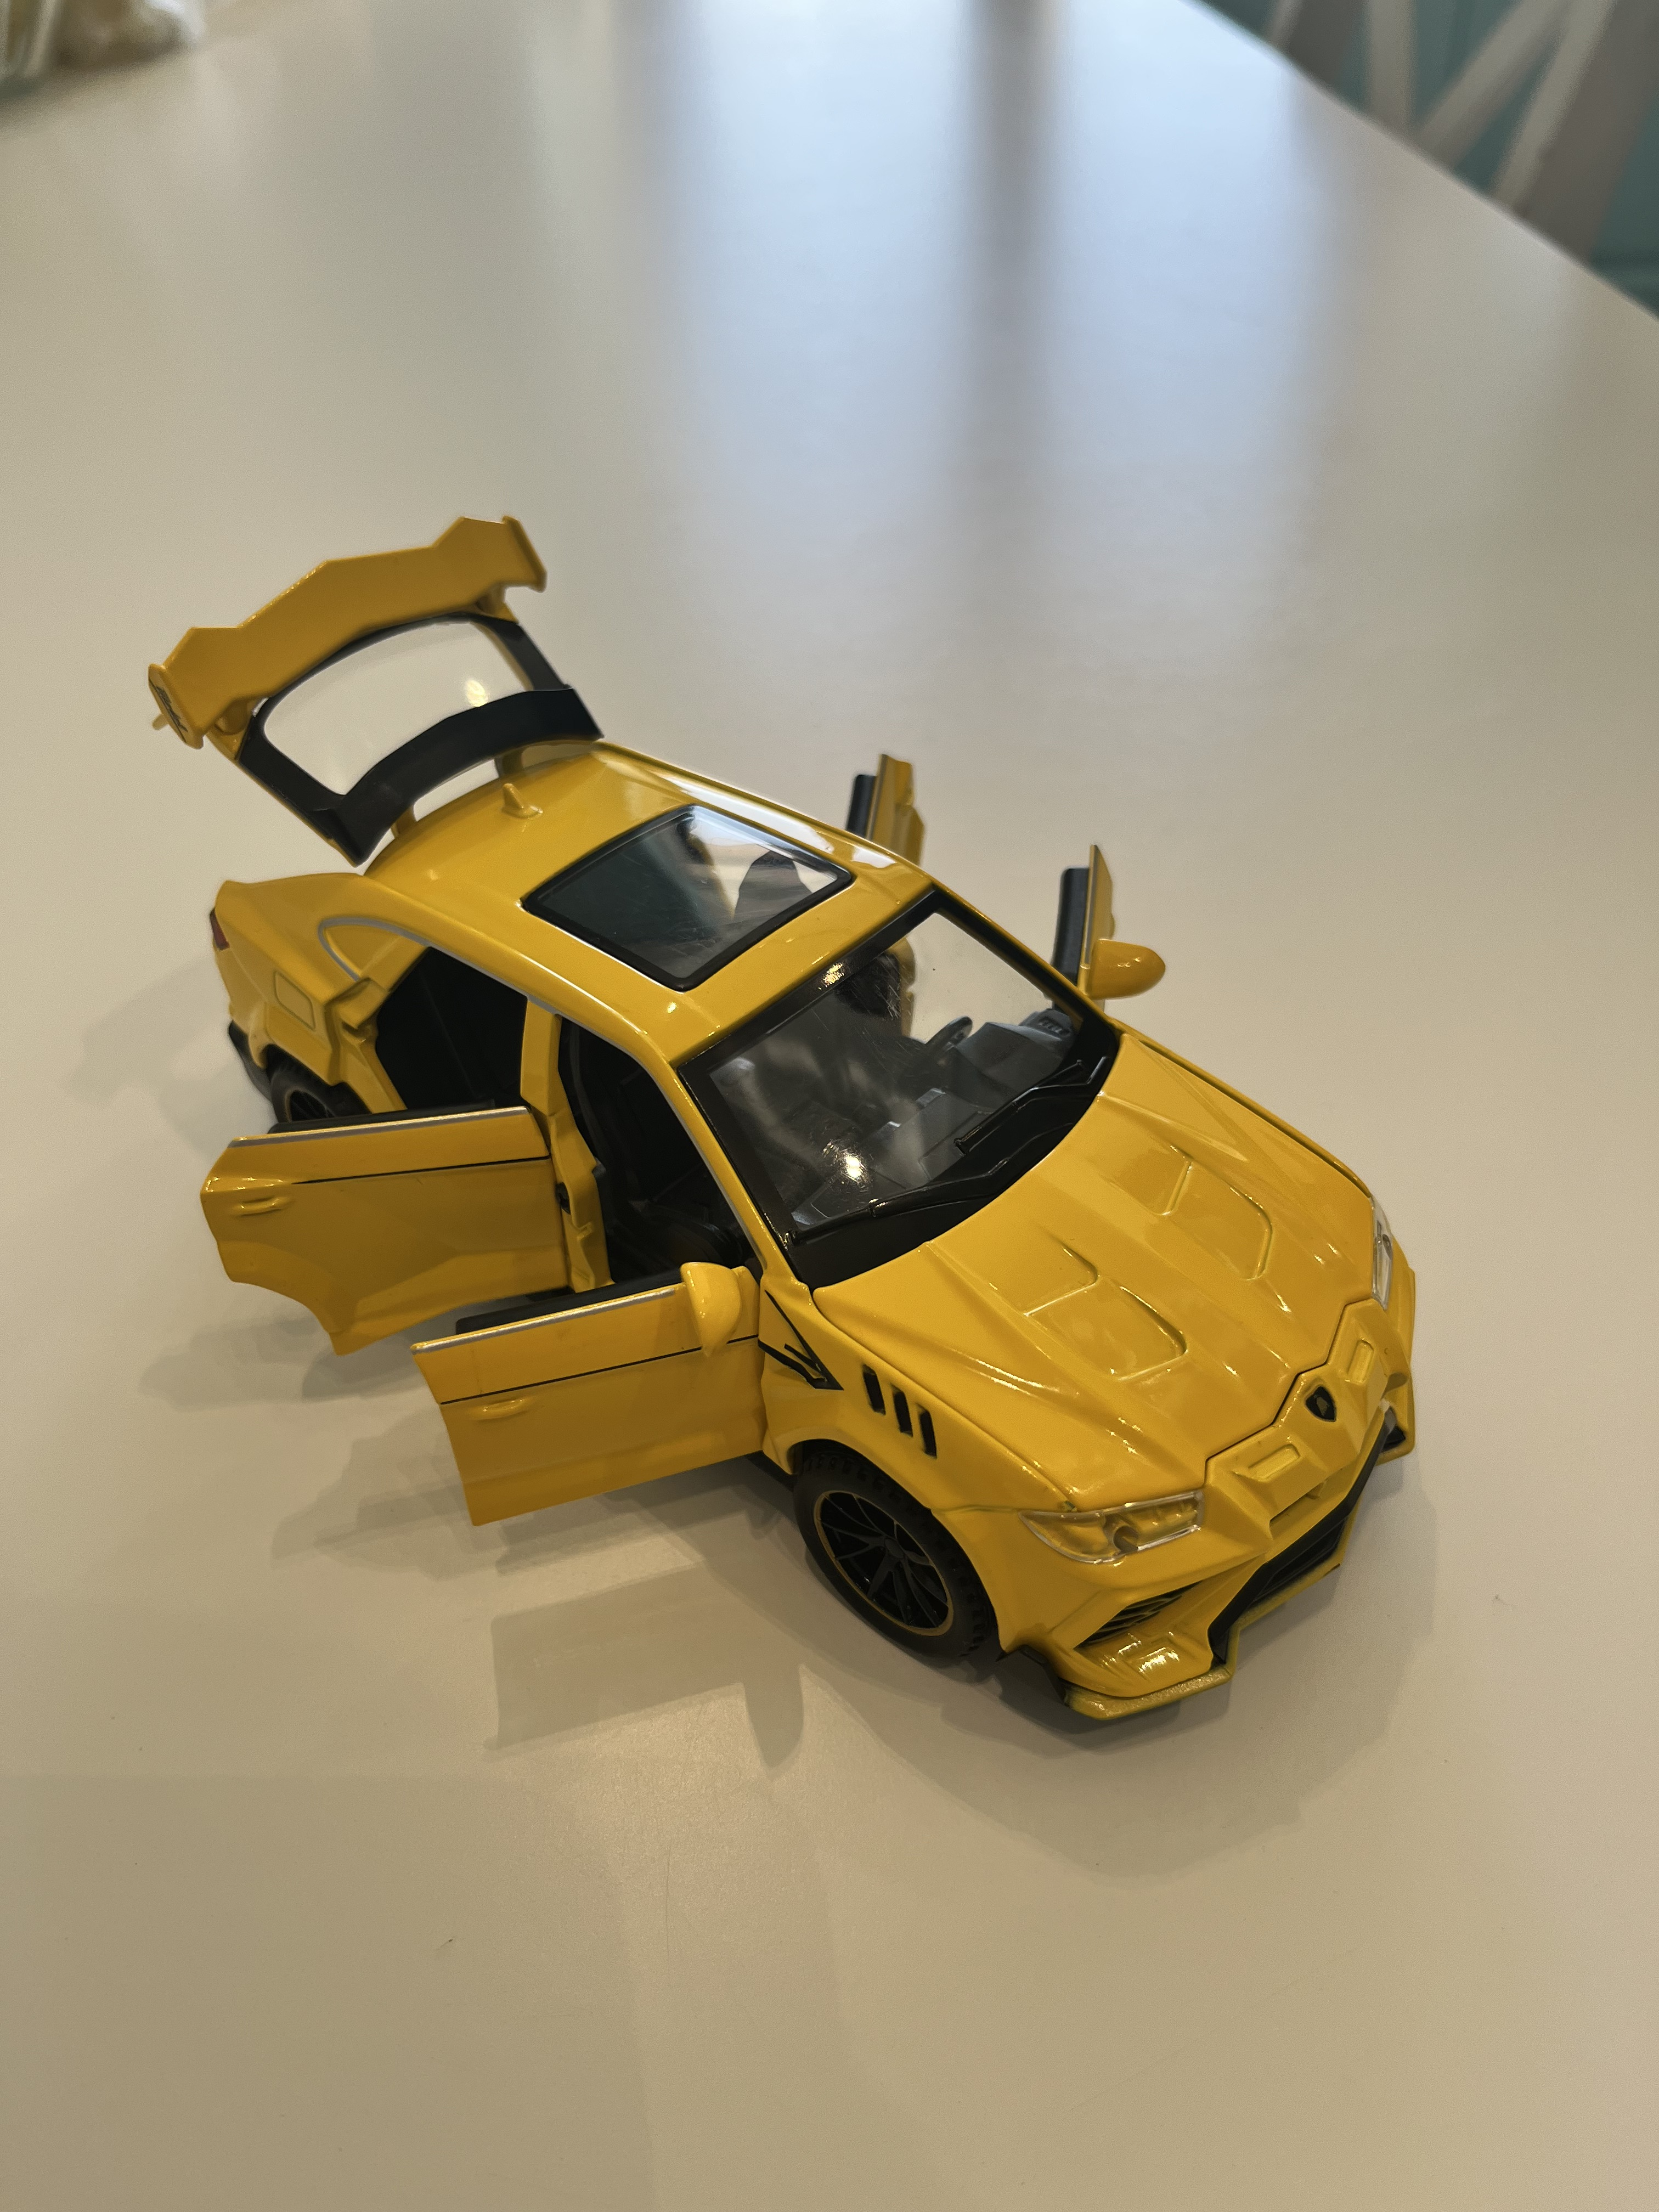lambo: (94, 420, 1452, 1766)
